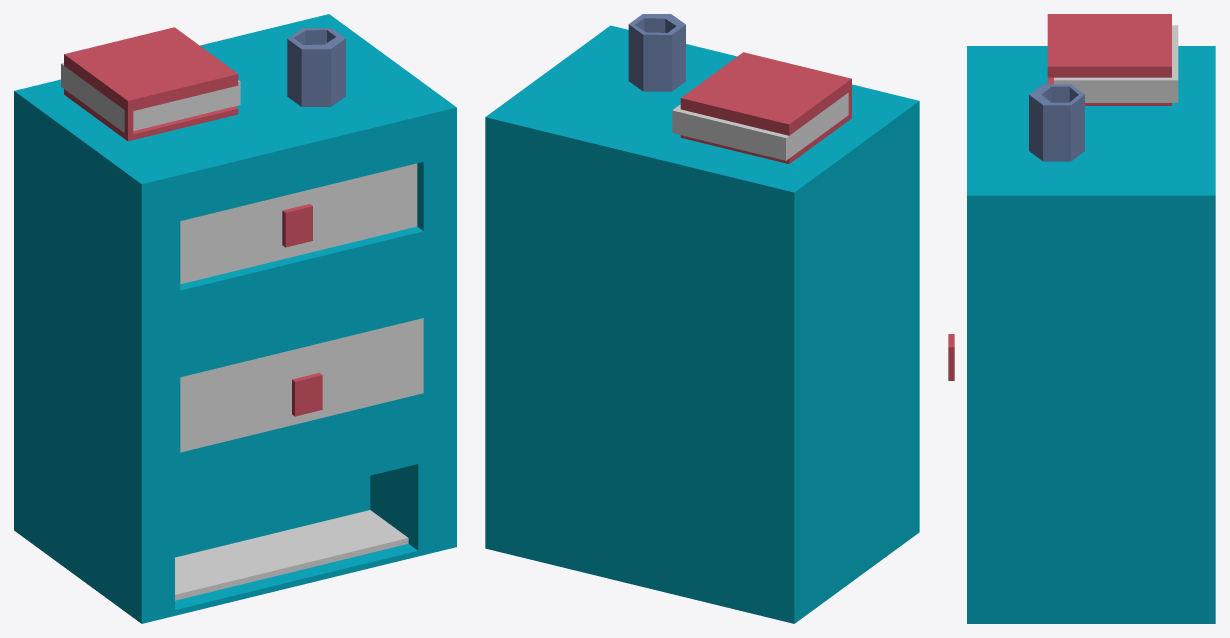
File: Surprising Fyyran-Lahdi.glb
The picture shows the model from 3 angles, left to right: view 1: azimuth 30°, elevation 25°; view 2: azimuth 150°, elevation 25°; view 3: azimuth 270°, elevation 25°; orthographic projection. The views are drawn at different scales.
Visible parts, largest first — view 1: Mesh_Mesh_head_geo.001_lambert2SG.001; view 2: Mesh_Mesh_head_geo.001_lambert2SG.001; view 3: Mesh_Mesh_head_geo.001_lambert2SG.001.
Boxes of the visible parts, x1,y1,x2,y2 form: Mesh_Mesh_head_geo.001_lambert2SG.001: (14,14,456,623); Mesh_Mesh_head_geo.001_lambert2SG.001: (485,14,919,623); Mesh_Mesh_head_geo.001_lambert2SG.001: (948,14,1215,623).
Bounding box in the file's own units: 57 × 86 × 43.
